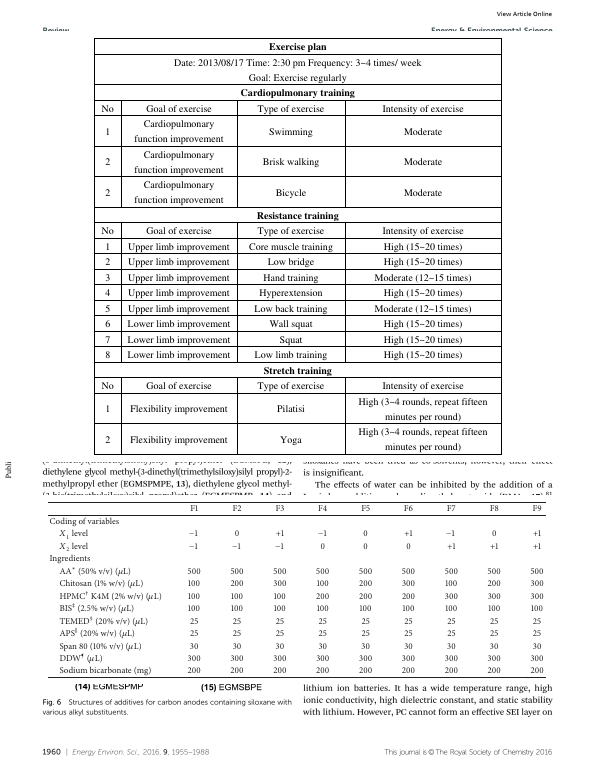bordered: (93, 36, 501, 454)
borderless: (46, 500, 546, 677)
cell: (172, 56, 422, 84), (357, 425, 488, 454), (357, 395, 488, 423), (133, 117, 224, 146), (133, 148, 224, 176), (133, 179, 224, 207), (58, 587, 163, 604), (239, 86, 355, 100), (126, 317, 231, 331), (126, 255, 230, 269), (58, 613, 149, 629), (126, 333, 231, 346), (126, 349, 231, 362), (126, 240, 230, 253), (126, 271, 230, 284), (126, 287, 230, 300), (126, 302, 230, 315), (58, 576, 144, 591), (373, 271, 472, 284), (373, 302, 472, 315), (129, 403, 228, 416), (129, 433, 228, 446), (58, 638, 143, 653), (58, 625, 136, 641), (58, 600, 135, 616), (58, 563, 132, 579), (381, 224, 464, 238), (382, 255, 463, 269), (382, 317, 463, 331), (247, 240, 333, 253), (255, 209, 339, 222), (381, 102, 464, 115), (381, 380, 464, 393), (382, 240, 463, 253), (382, 287, 463, 300), (382, 333, 463, 346), (382, 349, 463, 362), (58, 666, 152, 677), (253, 302, 328, 315), (253, 349, 328, 362), (256, 224, 325, 238), (145, 224, 212, 238), (262, 364, 332, 377), (256, 102, 325, 115), (256, 380, 325, 393), (145, 102, 212, 115), (145, 380, 212, 393), (258, 287, 323, 300), (267, 40, 327, 54), (261, 155, 320, 169), (262, 271, 319, 284), (58, 650, 104, 666), (48, 517, 120, 527), (266, 255, 315, 269), (268, 317, 313, 331), (267, 125, 313, 138), (402, 155, 443, 169), (402, 125, 443, 138), (402, 186, 443, 199), (58, 538, 89, 555), (58, 526, 89, 542), (48, 554, 91, 565), (274, 186, 307, 199), (275, 403, 305, 416), (278, 333, 303, 346), (278, 433, 302, 446), (100, 224, 114, 238), (188, 538, 200, 554), (231, 538, 243, 554), (274, 538, 286, 554), (100, 102, 114, 115), (100, 380, 114, 393), (188, 526, 200, 541), (317, 526, 329, 541), (229, 579, 245, 590), (229, 666, 245, 677), (446, 526, 457, 541), (272, 579, 287, 590), (358, 579, 373, 590), (401, 579, 416, 590), (487, 579, 502, 590), (530, 579, 545, 590), (315, 591, 330, 602), (358, 591, 373, 602), (401, 591, 416, 602), (444, 591, 459, 602), (487, 591, 502, 602), (530, 591, 545, 602), (187, 666, 202, 677), (272, 666, 287, 677), (315, 666, 330, 677), (358, 666, 373, 677), (401, 666, 416, 677), (444, 666, 459, 677), (487, 666, 502, 677), (530, 666, 545, 677), (229, 567, 245, 577), (229, 654, 245, 664), (187, 579, 201, 590), (316, 579, 330, 590), (444, 579, 458, 590), (187, 591, 201, 602), (230, 591, 244, 602), (273, 591, 287, 602), (187, 604, 201, 615), (230, 604, 244, 615), (273, 604, 287, 615), (316, 604, 330, 615), (359, 604, 373, 615), (401, 604, 415, 615), (444, 604, 458, 615), (487, 604, 501, 615), (530, 604, 544, 615), (187, 567, 202, 577), (272, 567, 287, 577), (315, 567, 330, 577), (358, 567, 373, 577), (401, 567, 416, 577), (444, 567, 459, 577), (487, 567, 502, 577), (530, 567, 545, 577), (187, 654, 202, 664), (272, 654, 287, 664), (315, 654, 330, 664), (358, 654, 373, 664), (401, 654, 416, 664), (444, 654, 459, 664), (487, 654, 502, 664), (530, 654, 545, 664), (274, 504, 285, 515), (317, 504, 328, 515), (360, 504, 371, 515), (403, 504, 414, 515), (446, 504, 457, 515), (489, 504, 500, 515), (532, 504, 543, 515), (403, 529, 414, 540), (360, 616, 371, 627), (403, 616, 414, 627), (446, 616, 457, 627), (317, 641, 328, 652), (360, 641, 371, 652), (403, 641, 414, 652), (446, 641, 457, 652), (189, 504, 199, 515), (232, 504, 242, 515), (275, 529, 285, 540), (532, 529, 542, 540), (189, 616, 199, 627), (232, 616, 242, 627), (275, 616, 285, 627), (318, 616, 328, 627), (489, 616, 499, 627), (532, 616, 542, 627), (360, 629, 371, 639), (403, 629, 414, 639), (446, 629, 457, 639), (189, 641, 199, 652), (232, 641, 242, 652), (275, 641, 285, 652), (489, 641, 499, 652), (532, 641, 542, 652), (446, 542, 456, 552), (489, 542, 499, 552), (532, 542, 542, 552), (189, 629, 199, 639), (232, 629, 242, 639), (275, 629, 285, 639), (318, 629, 328, 639), (489, 629, 499, 639), (532, 629, 542, 639), (104, 155, 111, 169), (104, 255, 111, 269), (104, 317, 111, 331), (104, 125, 111, 138), (104, 186, 111, 199), (104, 240, 111, 253), (104, 271, 111, 284), (104, 287, 111, 300), (104, 302, 111, 315), (104, 333, 111, 346), (104, 349, 111, 362), (104, 403, 111, 416), (104, 433, 111, 446), (362, 529, 369, 540), (362, 542, 369, 552), (405, 542, 412, 552), (234, 529, 240, 540), (491, 529, 497, 540), (320, 542, 326, 552)
